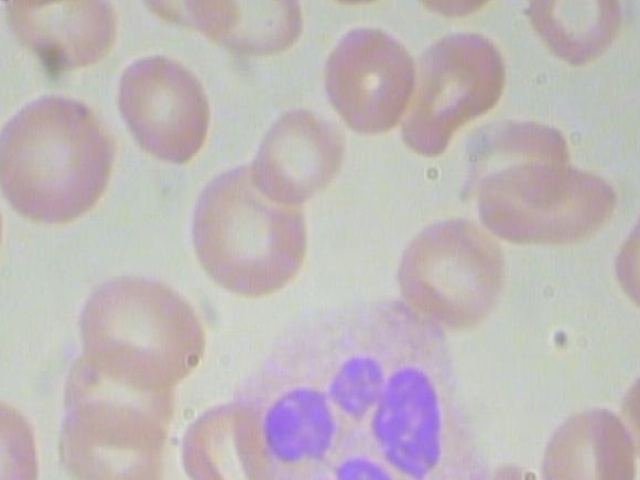RBC: (70, 260, 212, 393), (0, 89, 124, 233), (192, 157, 310, 303), (398, 25, 511, 162), (391, 209, 511, 332), (475, 156, 624, 251), (108, 52, 219, 172), (320, 19, 418, 143), (253, 96, 345, 210), (185, 0, 311, 67), (532, 404, 640, 480), (527, 0, 623, 75), (0, 384, 39, 480)
WBC: (221, 296, 484, 480)
